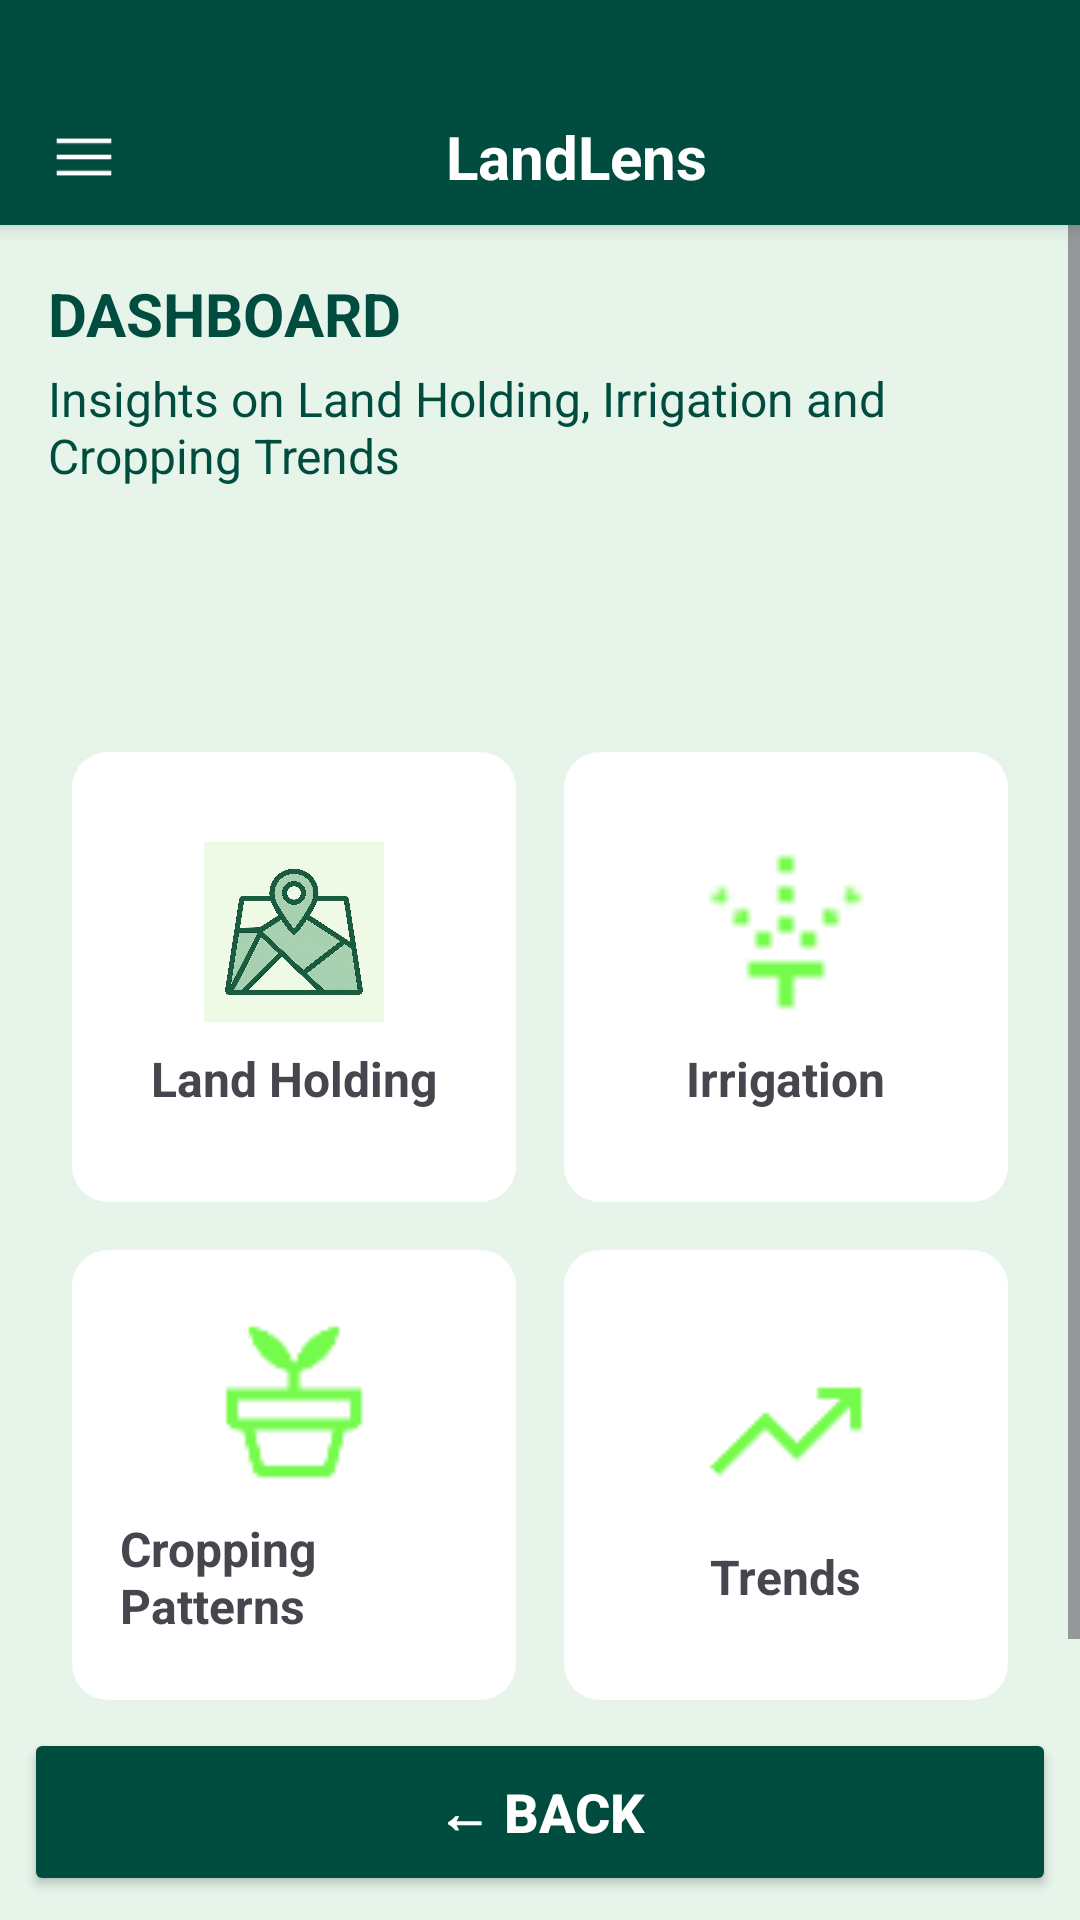

Point at icon controls on the screen. Image size 1080w x 1920h, points as [x,y].
menu: [84,157]
